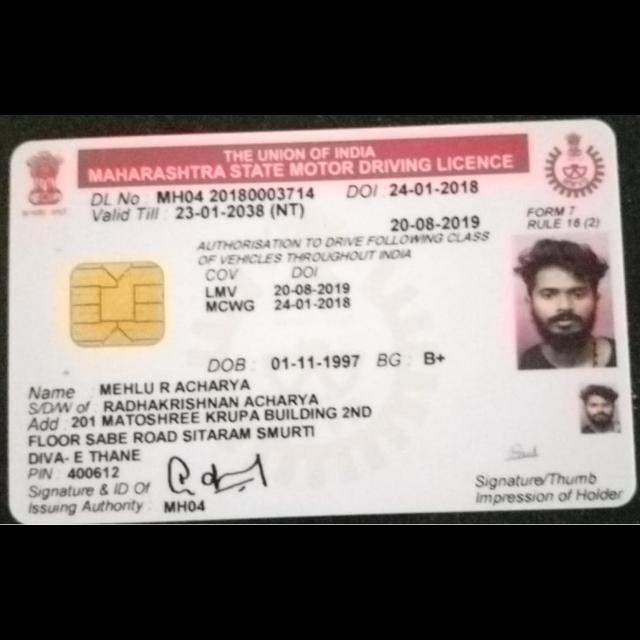driving_licence: (6, 117, 640, 525)
